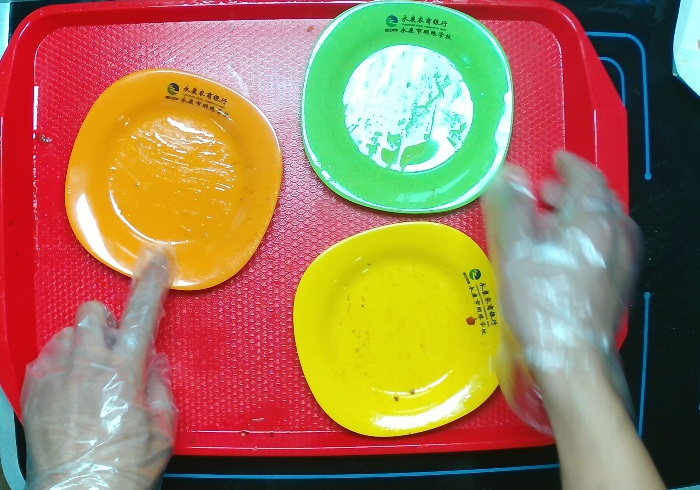YKMZ-Huang_Se_Fang_Die: (285, 215, 514, 438)
YKMZ-Ju_Se_Fang_Die: (66, 71, 285, 291)
YKMZ-Lv_Se_Fang_Die: (303, 1, 514, 215)
